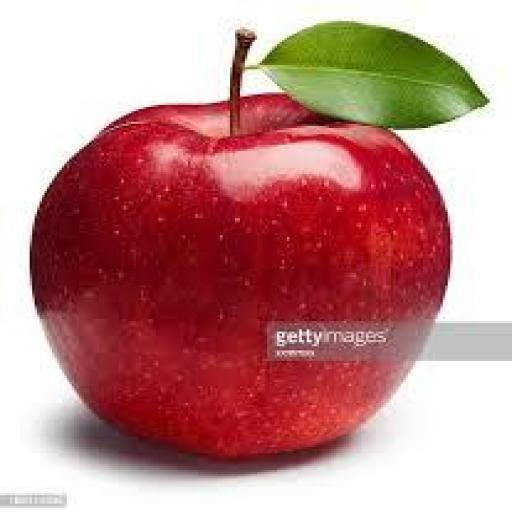apple: (33, 95, 450, 457)
